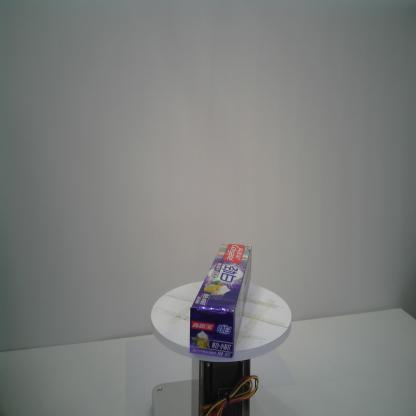Personal Hygiene: (190, 243, 252, 358)
